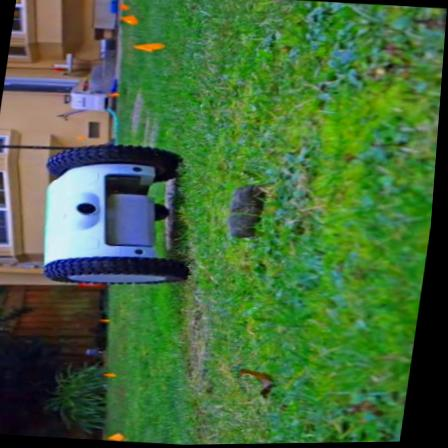dog-poop: (220, 182, 270, 242)
